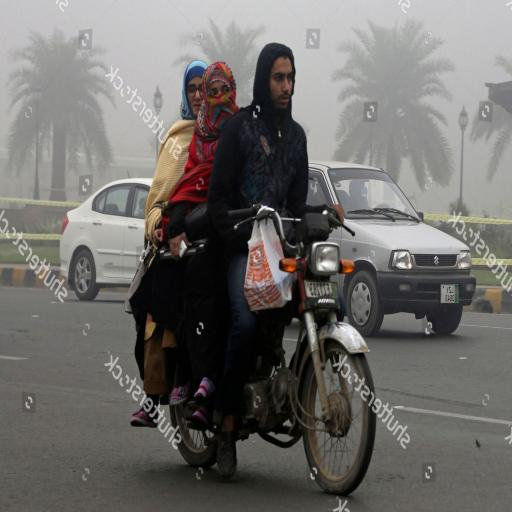overloading: (140, 198, 380, 497)
